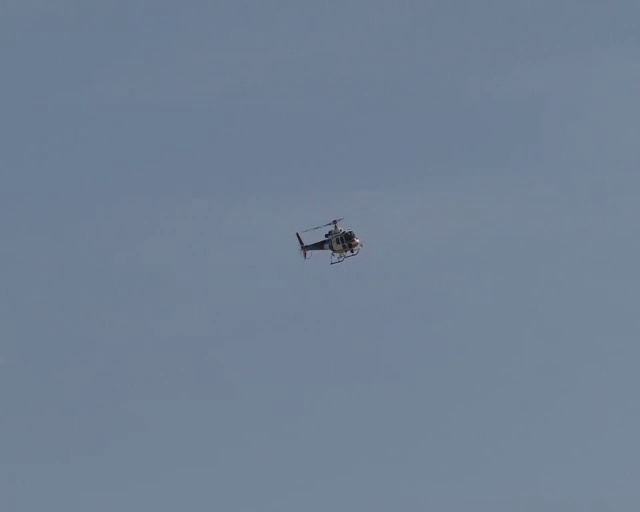HELICOPTER: (295, 216, 363, 264)
